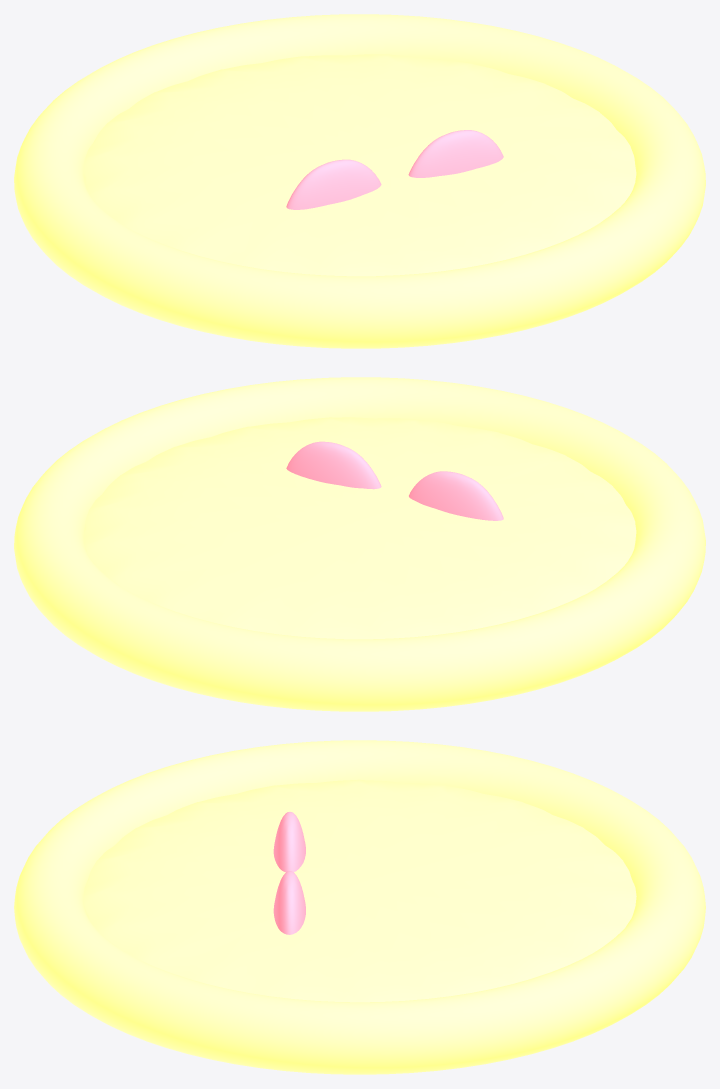
File: friendship_token.glb
3 renders of one model, top to bottom at view 1: azimuth 30°, elevation 25°; view 2: azimuth 150°, elevation 25°; view 3: azimuth 270°, elevation 25°, orthographic.
Visible parts, largest first — view 1: friendship_token; view 2: friendship_token; view 3: friendship_token.
Part boxes in pixels (<box>): friendship_token: <box>14,14,705,348</box>; friendship_token: <box>14,377,705,711</box>; friendship_token: <box>14,740,705,1074</box>.
Size of the model in its own units: 0.3951 by 0.0941 by 0.3951.
